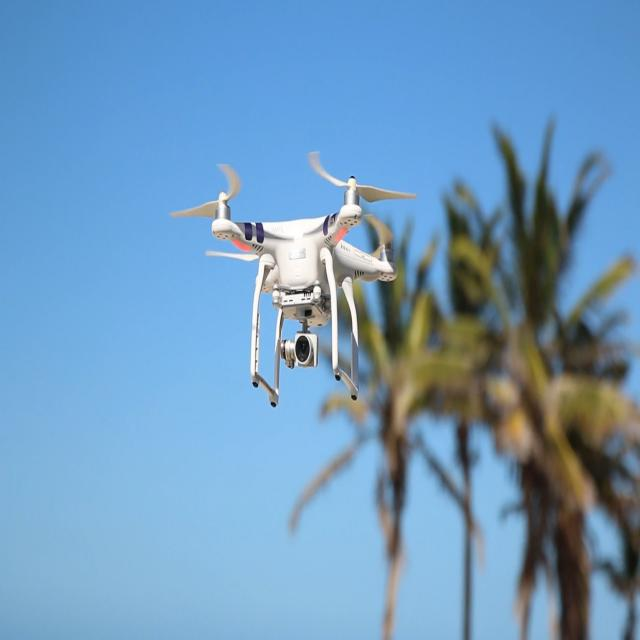Drone: (161, 148, 460, 418)
